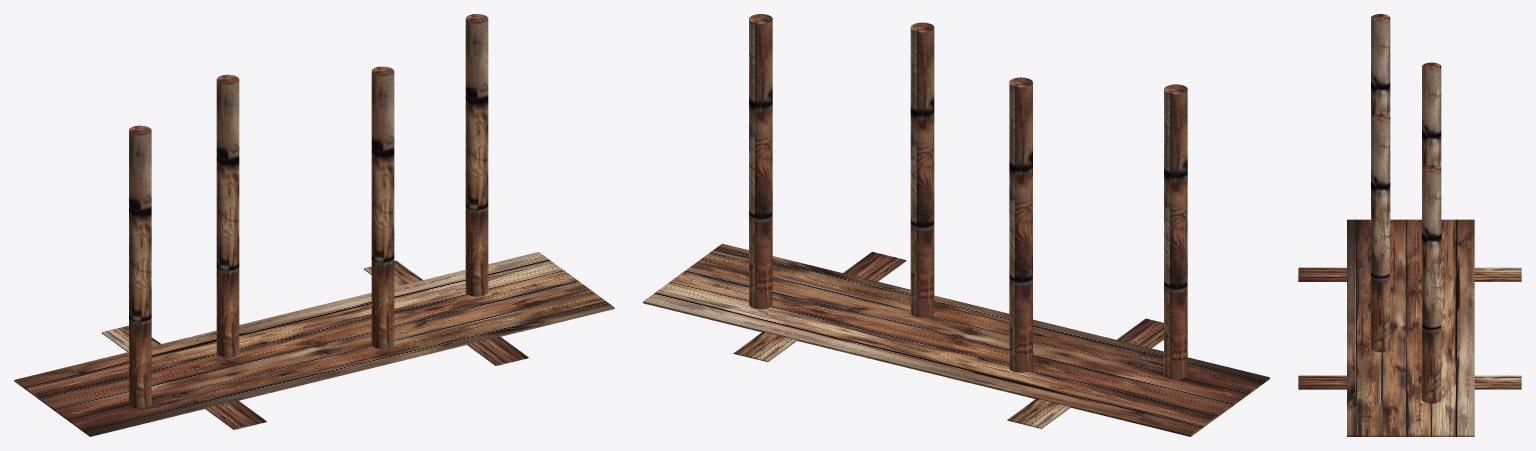
The model's file is Pujottelu%20Avo3D.glb.
3 views of the same model, side by side, from view 1: azimuth 30°, elevation 25°; view 2: azimuth 150°, elevation 25°; view 3: azimuth 270°, elevation 25° (orthographic). The views are drawn at different scales.
Parts seen in each view (by area): view 1: Plane.005, Cylinder.005, Cylinder.006, Cylinder.007, Cylinder.004, Plane.004, Plane.003; view 2: Plane.005, Cylinder.006, Cylinder.007, Cylinder.005, Cylinder.004, Plane.004, Plane.003; view 3: Plane.005, Cylinder.006, Cylinder.007, Cylinder.005, Cylinder.004, Plane.003, Plane.004.
Boxes of the visible parts, left/top/right/bottom form: Plane.005: left=14, top=252, right=614, bottom=436; Cylinder.005: left=216, top=74, right=239, bottom=357; Cylinder.006: left=371, top=66, right=394, bottom=349; Cylinder.007: left=465, top=14, right=488, bottom=296; Cylinder.004: left=129, top=125, right=151, bottom=408; Plane.004: left=363, top=260, right=528, bottom=365; Plane.003: left=101, top=325, right=266, bottom=429; Plane.005: left=643, top=243, right=1269, bottom=436; Cylinder.006: left=910, top=22, right=934, bottom=317; Cylinder.007: left=749, top=14, right=772, bottom=309; Cylinder.005: left=1009, top=77, right=1032, bottom=372; Cylinder.004: left=1164, top=84, right=1187, bottom=379; Plane.004: left=733, top=251, right=906, bottom=361; Plane.003: left=1007, top=318, right=1163, bottom=428; Plane.005: left=1347, top=219, right=1474, bottom=436; Cylinder.006: left=1371, top=114, right=1390, bottom=352; Cylinder.007: left=1422, top=165, right=1441, bottom=403; Cylinder.005: left=1422, top=62, right=1441, bottom=168; Cylinder.004: left=1371, top=14, right=1390, bottom=117; Plane.003: left=1298, top=267, right=1521, bottom=281; Plane.004: left=1298, top=375, right=1521, bottom=389.
Bounding box in the file's own units: 0.8662 × 0.4338 × 0.379.
Materials: 1 (1 with a texture image).
